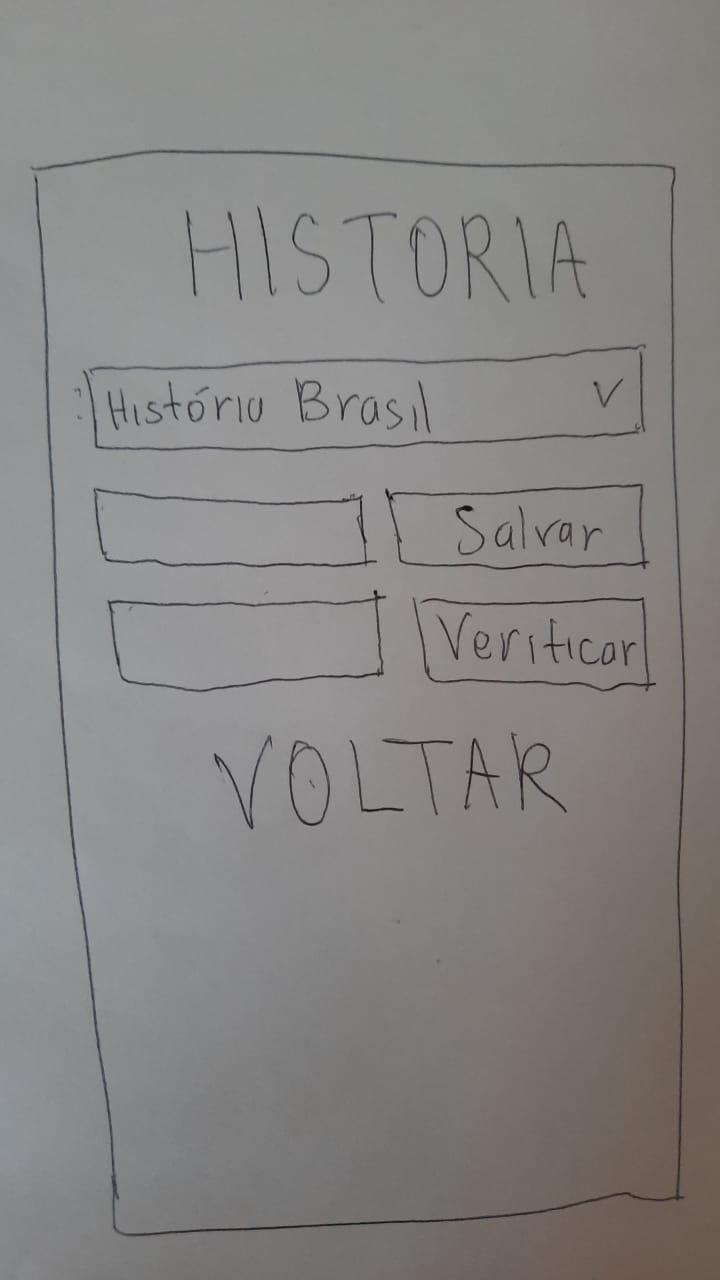Button: (413, 596, 649, 692), (387, 483, 647, 570)
Label: (186, 203, 587, 303), (213, 732, 568, 830)
ListPicker: (83, 344, 645, 451)
Screen: (34, 147, 687, 1236)
TextBox: (109, 597, 383, 693), (93, 486, 367, 567)
